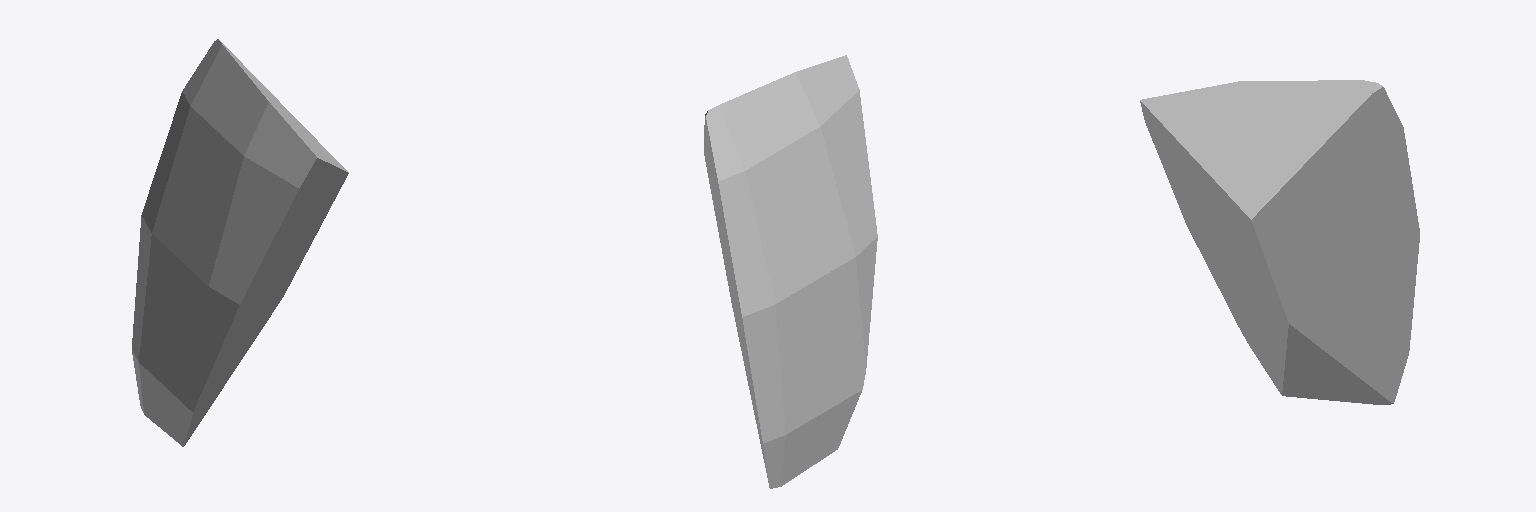
File: Sphere_Cell_Fracture31.obj
3 renders of one model, left to right at view 1: azimuth 30°, elevation 25°; view 2: azimuth 150°, elevation 25°; view 3: azimuth 270°, elevation 25°, orthographic.
Bounding box in the file's own units: 0.2536 × 0.5527 × 0.3915.